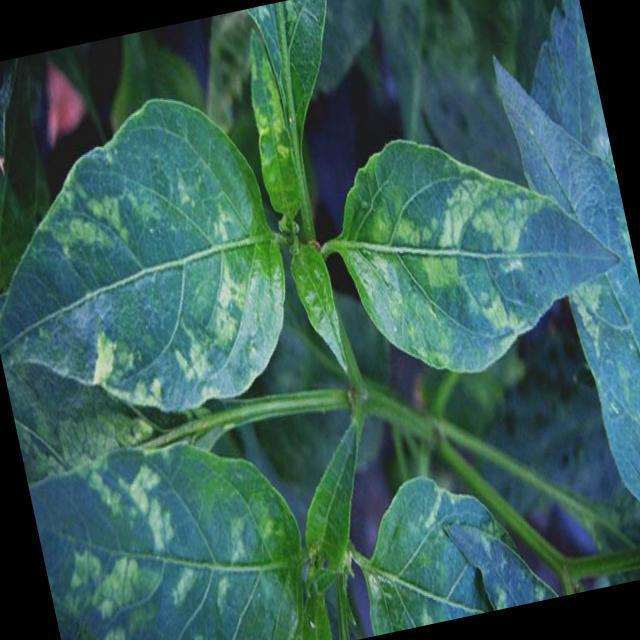Mosaic Virus: (0, 102, 292, 434), (334, 112, 602, 376), (25, 419, 313, 640), (358, 464, 547, 633), (556, 182, 640, 434), (234, 19, 310, 217)
